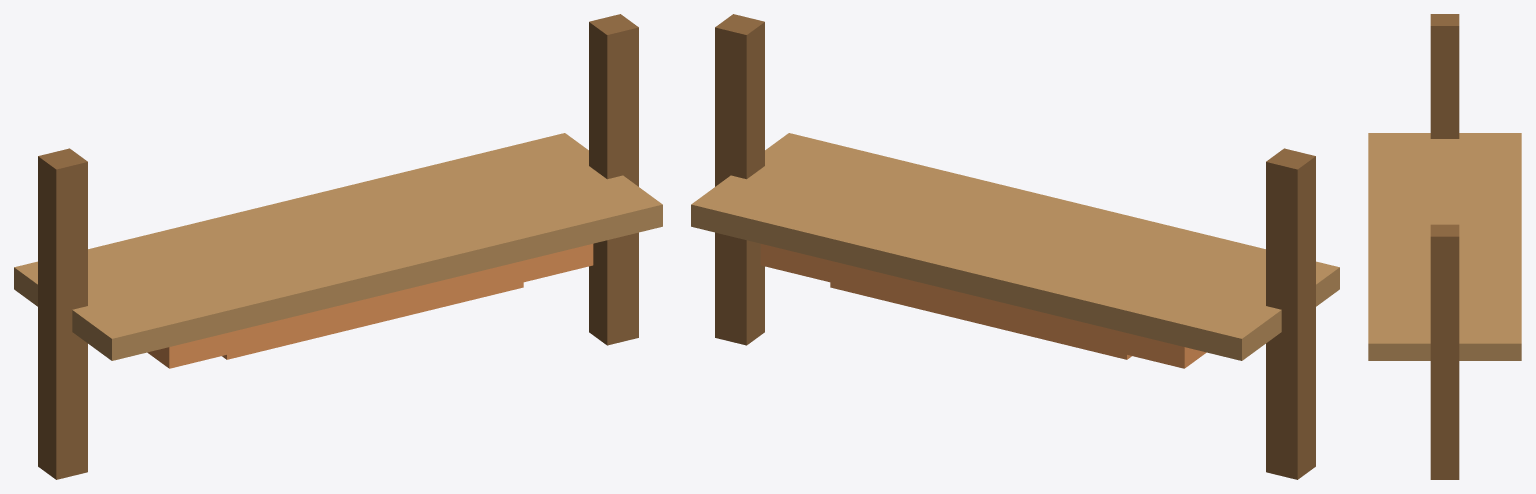
Rendered from hammock.glb.
The picture shows the model from 3 angles, left to right: view 1: azimuth 30°, elevation 25°; view 2: azimuth 150°, elevation 25°; view 3: azimuth 270°, elevation 25°; orthographic projection. The views are drawn at different scales.
Visible parts, largest first — view 1: hammock; view 2: hammock; view 3: hammock.
Boxes of the visible parts, x1,y1,x2,y2 form: hammock: (14,14,662,479); hammock: (691,14,1339,479); hammock: (1368,14,1521,479).
Bounding box in the file's own units: 55 × 28 × 16.
